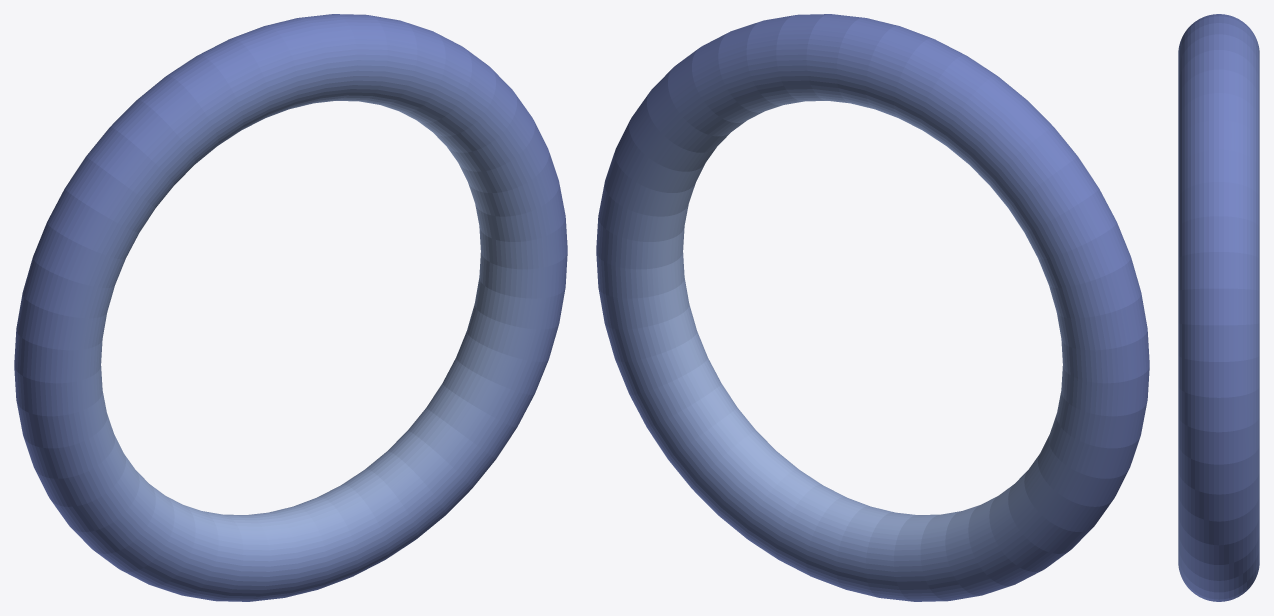
The picture shows the model from 3 angles, left to right: view 1: azimuth 30°, elevation 25°; view 2: azimuth 150°, elevation 25°; view 3: azimuth 270°, elevation 25°; orthographic projection. The views are drawn at different scales.
Parts seen in each view (by area): view 1: world; view 2: world; view 3: world.
Part boxes in pixels (x1,y1,x2,y2): world: (14,14,567,601); world: (596,14,1149,601); world: (1178,14,1259,601).
Bounding box in the file's own units: 24 × 23.95 × 3.33.
